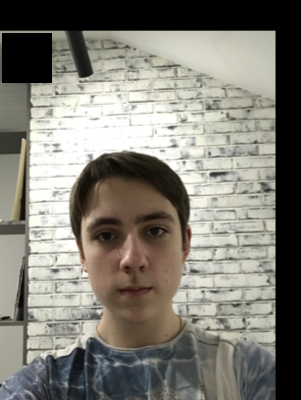without_mask: (81, 205, 183, 322)
